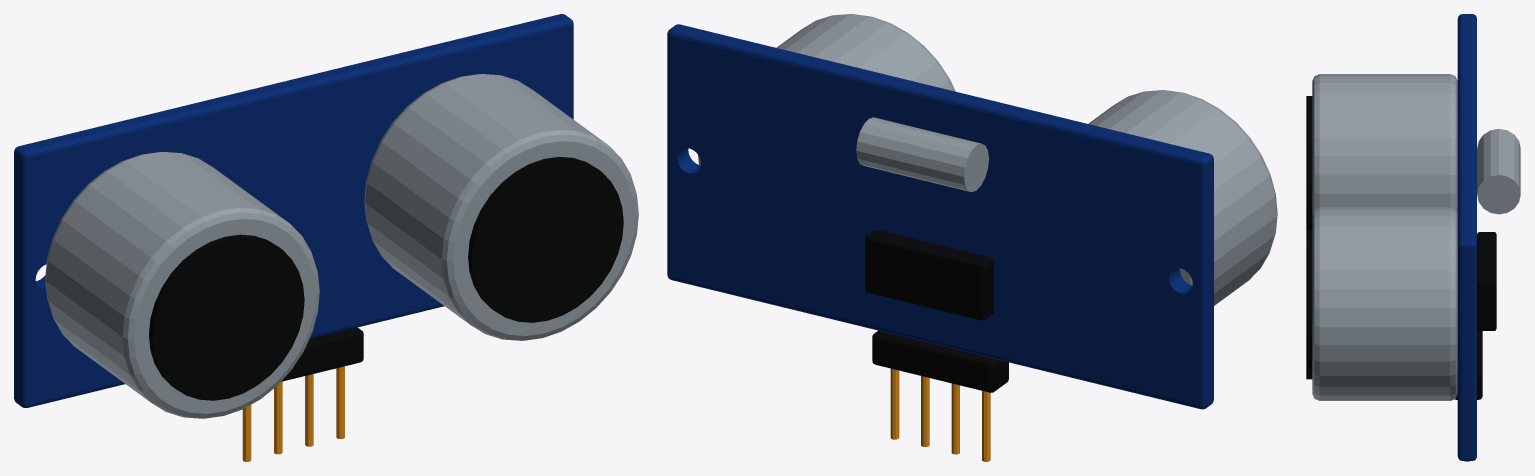
3 renders of one model, left to right at view 1: azimuth 30°, elevation 25°; view 2: azimuth 150°, elevation 25°; view 3: azimuth 270°, elevation 25°, orthographic. The views are drawn at different scales.
Parts seen in each view (by area): view 1: hc_sr04; view 2: hc_sr04; view 3: hc_sr04.
Part boxes in pixels (box(x1,y1,x2,y2)): hc_sr04: box(14, 14, 638, 461); hc_sr04: box(667, 14, 1277, 461); hc_sr04: box(1306, 14, 1520, 461).
Size of the model in its own units: 0.045 by 0.0285 by 0.0177.
